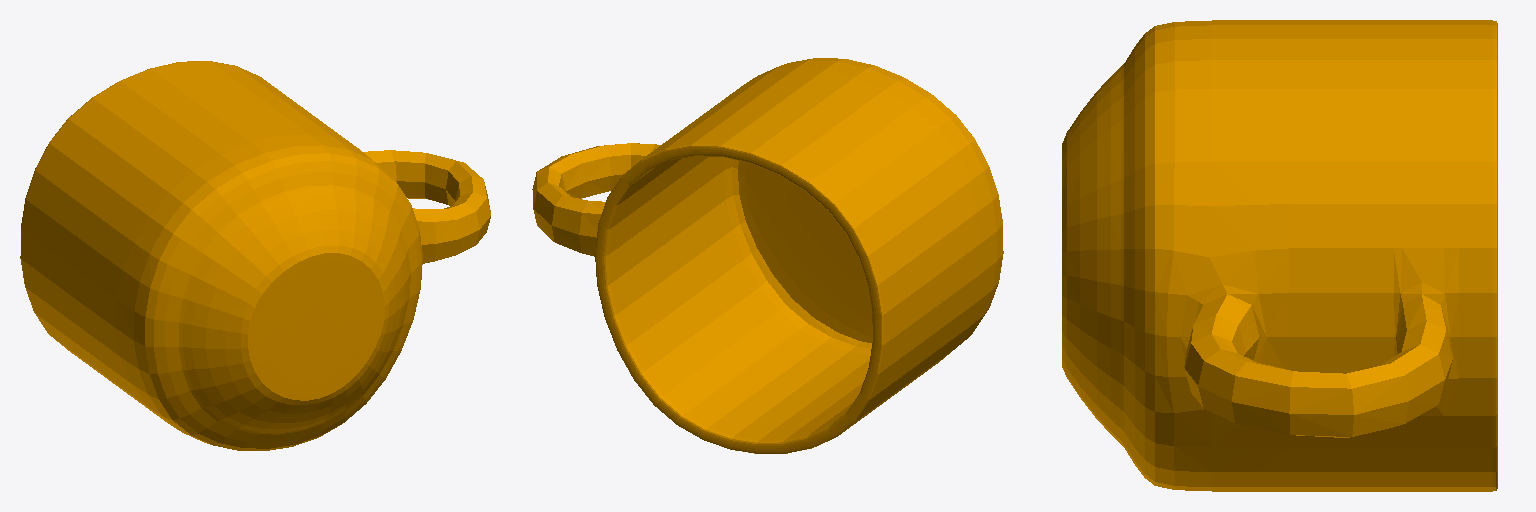
The robot description file, URDF, robot "157":
<?xml version="1.0" ?>
<robot name="157">
  <link name="body">
    <visual>
      <geometry>
        <mesh filename="../shapes/157.obj"/>
      </geometry>
    </visual>
    <collision>
      <geometry>
        <mesh filename="../shapes/157.obj"/>
      </geometry>
    </collision>
  </link>
</robot>

--- What the picture shows (computed from the rendered views, not written in the file) ---
Views: 3 orthographic renders of the robot side by side, from view 1: azimuth 30°, elevation 25°; view 2: azimuth 150°, elevation 25°; view 3: azimuth 270°, elevation 25°.
Robot: 157 — 1 links, 0 joints (none); root link body; default pose: every joint at zero.
Links seen in each view (by area): view 1: body; view 2: body; view 3: body.
Boxes of the visible links, x1,y1,x2,y2 form: body: (20, 61, 490, 450); body: (532, 58, 1003, 453); body: (1062, 20, 1497, 491).
Size in the robot's own frame: 3.37 by 2.29 by 2.42 metres.
Meshes: 1 distinct files referenced, 1 mesh visuals loaded (1 OBJ).